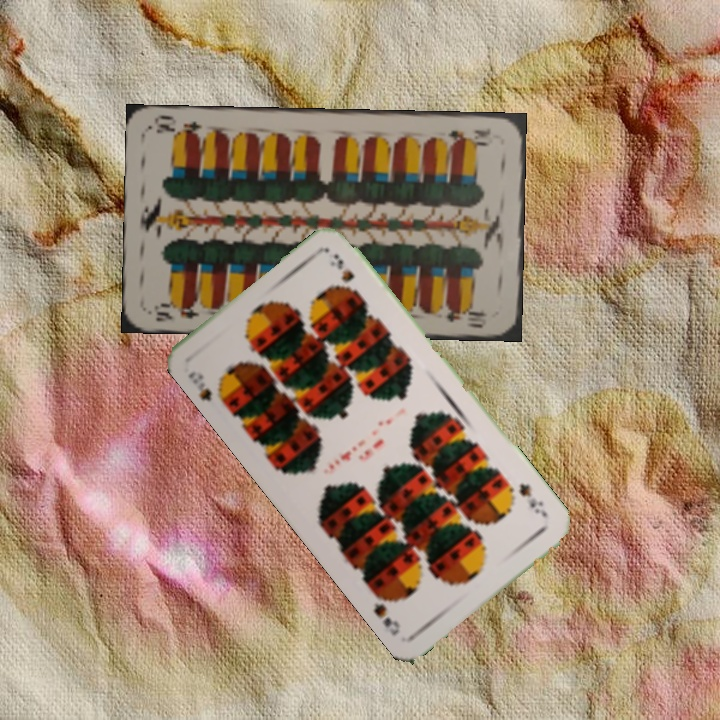E10: (150, 298, 201, 324), (443, 124, 494, 146)
S9: (183, 366, 230, 408), (515, 479, 550, 520)
